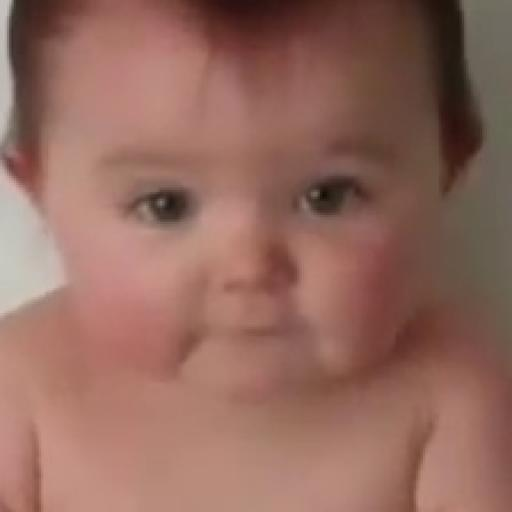Autism: (27, 13, 482, 406)
